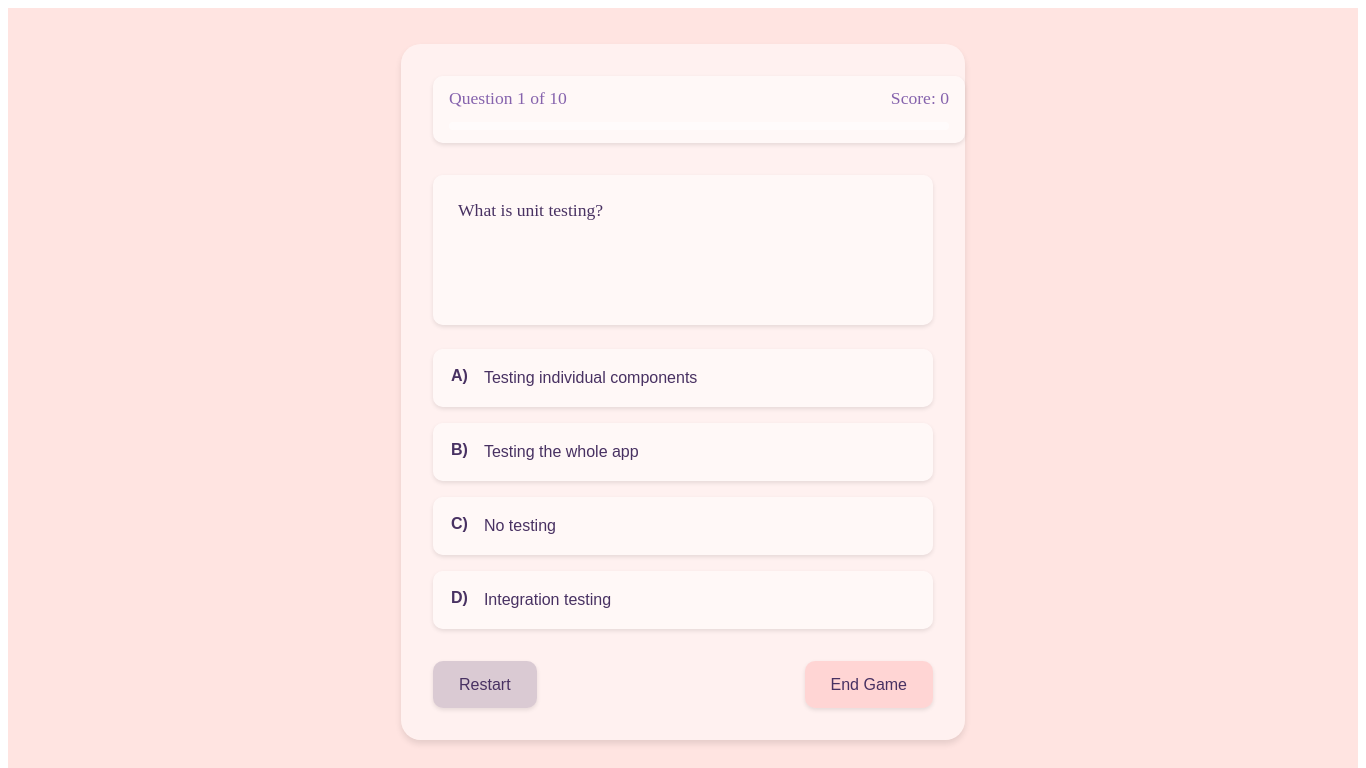
Test case: QuizPage Local API Tests › tracks score correctly for local questions
Expected: the text "What is unit testing?" is shown, [433,175,933,325]
// Answer correctly
Click the text "Testing individual components": (591, 377) [484,369,697,386]
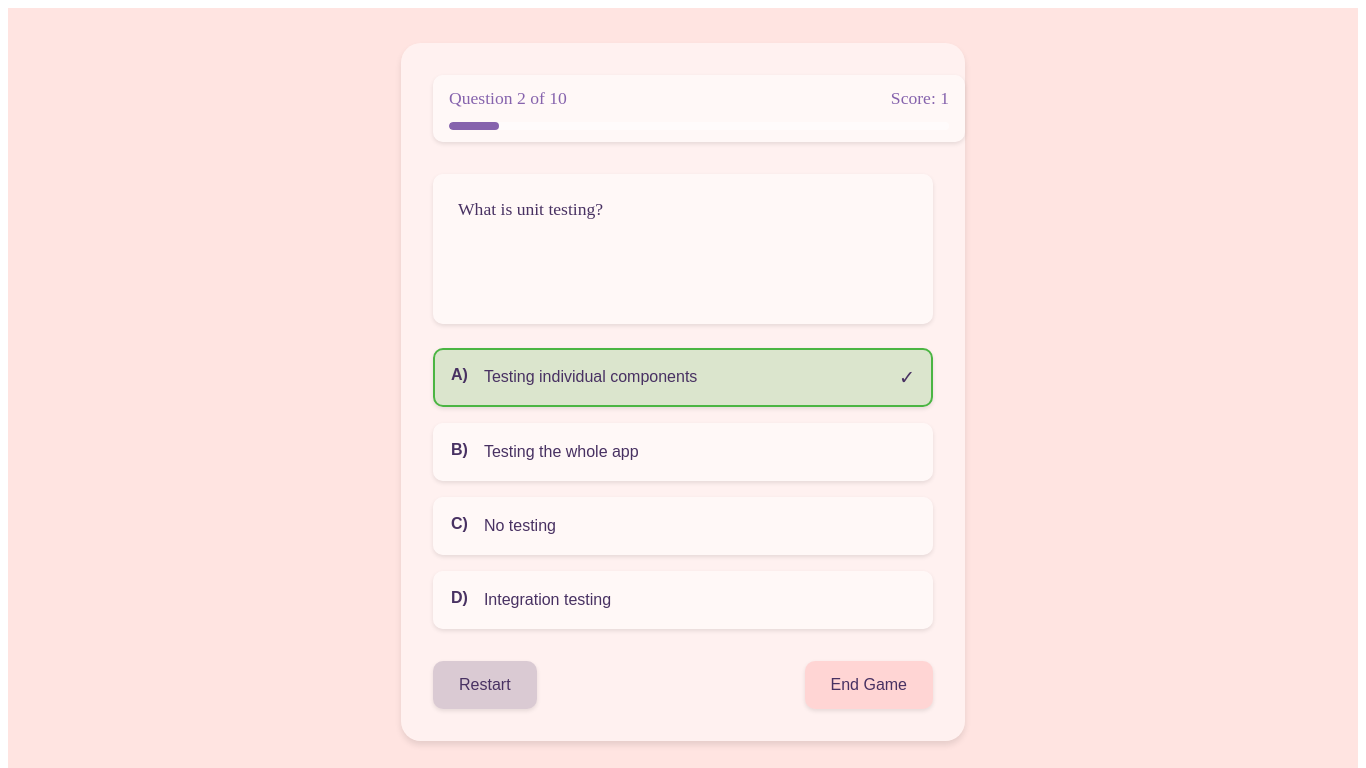
Expected: the text "Score: 1" is shown, [891,88,949,109]
